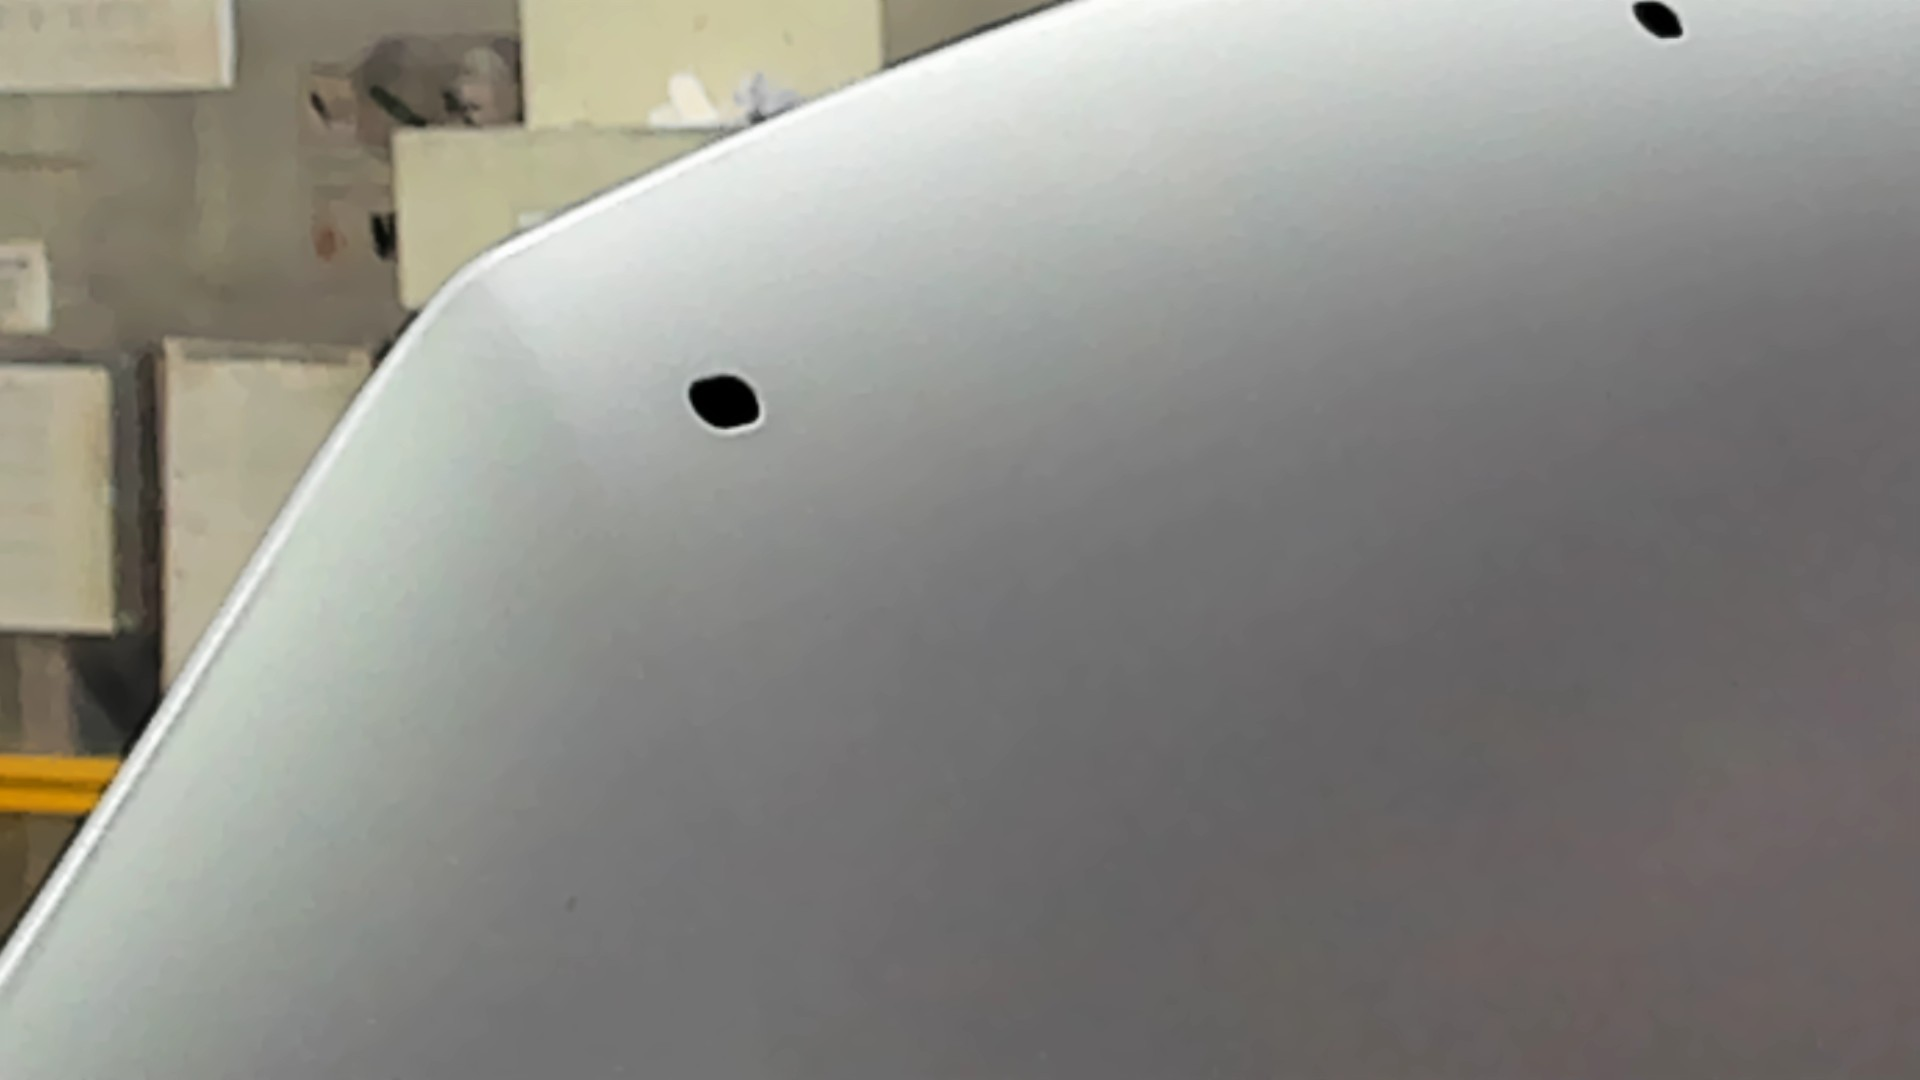amorfo: (683, 371, 767, 433), (1625, 1, 1688, 46)
